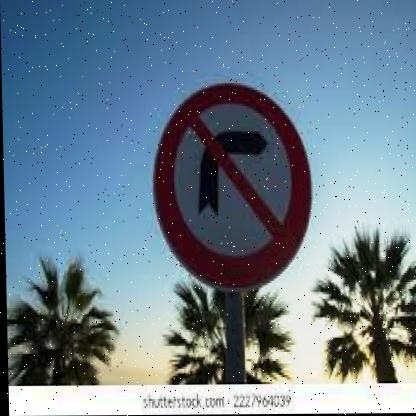No right turn: (151, 79, 309, 288)
